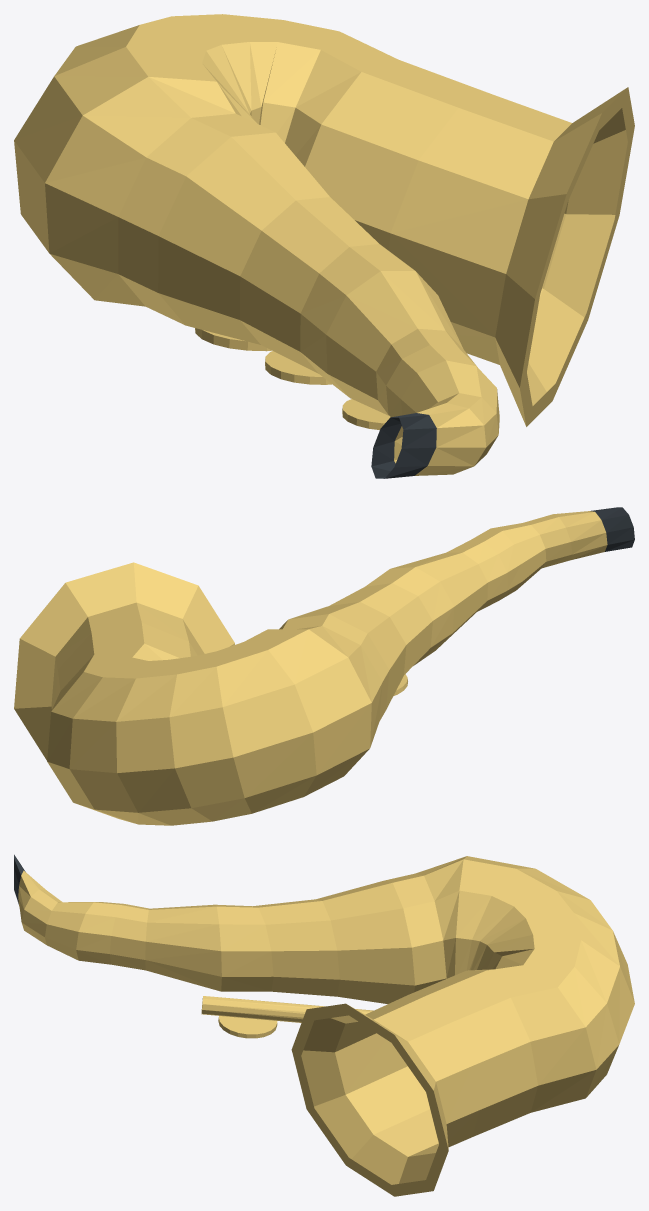
Rendered from SAXAPHON.glb.
The picture shows the model from 3 angles, top to bottom: view 1: azimuth 30°, elevation 25°; view 2: azimuth 150°, elevation 25°; view 3: azimuth 270°, elevation 25°; orthographic projection. The views are drawn at different scales.
Visible parts, largest first — view 1: _0; view 2: _0; view 3: _0.
Part boxes in pixels (box(x1,y1,x2,y2)): _0: box(14, 14, 634, 478); _0: box(14, 507, 634, 825); _0: box(14, 854, 634, 1196).
Size of the model in its own units: 2.26 by 1.33 by 3.25.
